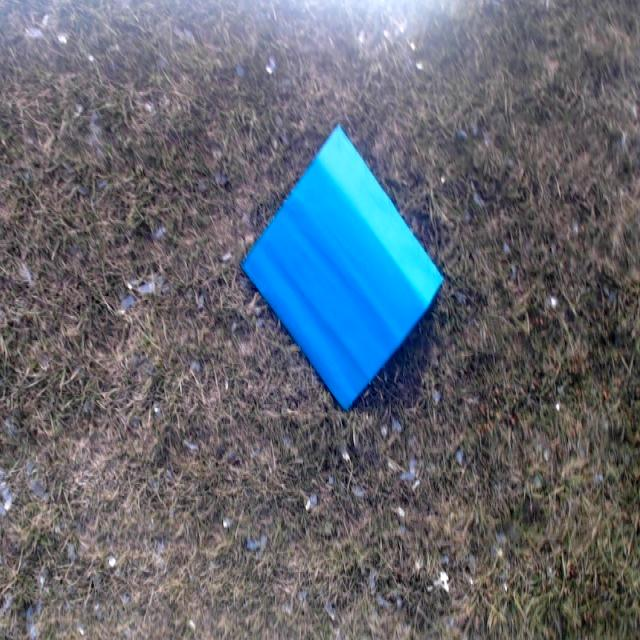blue_square: (244, 125, 444, 411)
